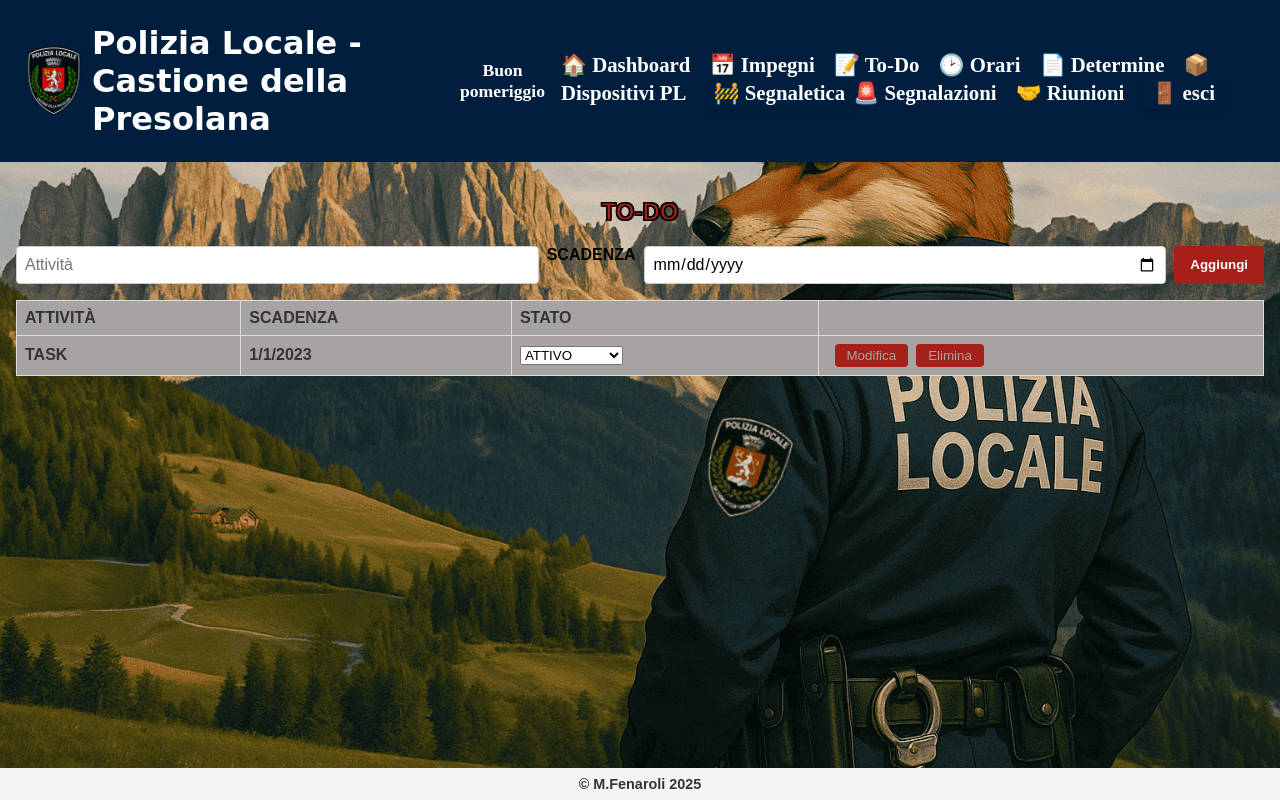
TodoPage offline › deletes todo offline
Check: the text "Task" is shown, box x1=16 y1=335 x2=241 y2=375
Step 1. Click the button with test id "todo-delete" → [950, 355], box x1=916 y1=344 x2=984 y2=367
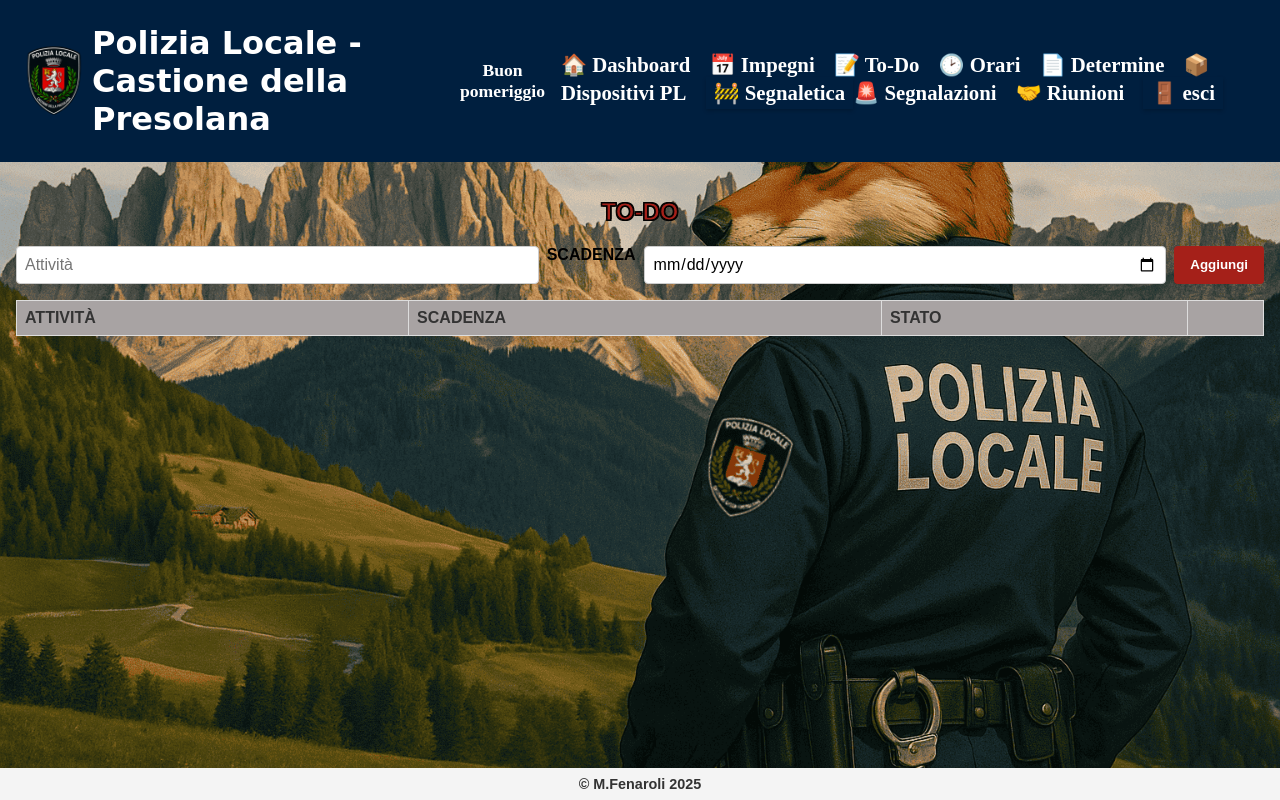
Check: the text "Task" is gone
